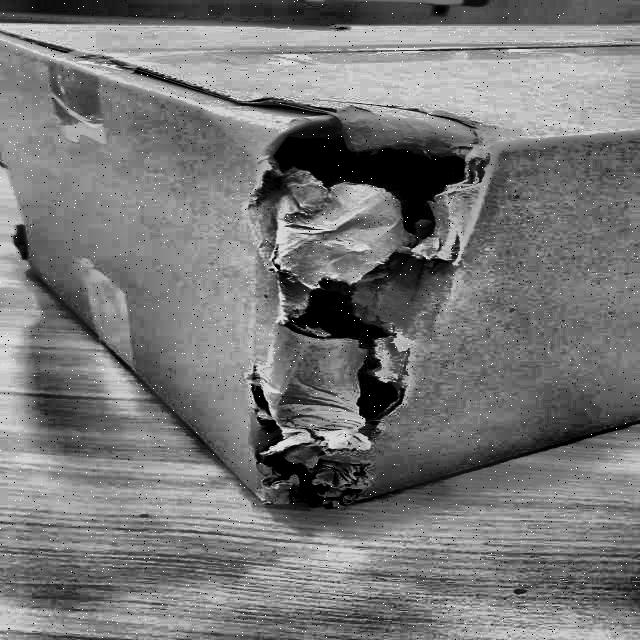box: (1, 0, 640, 546)
hole: (243, 113, 491, 507)
